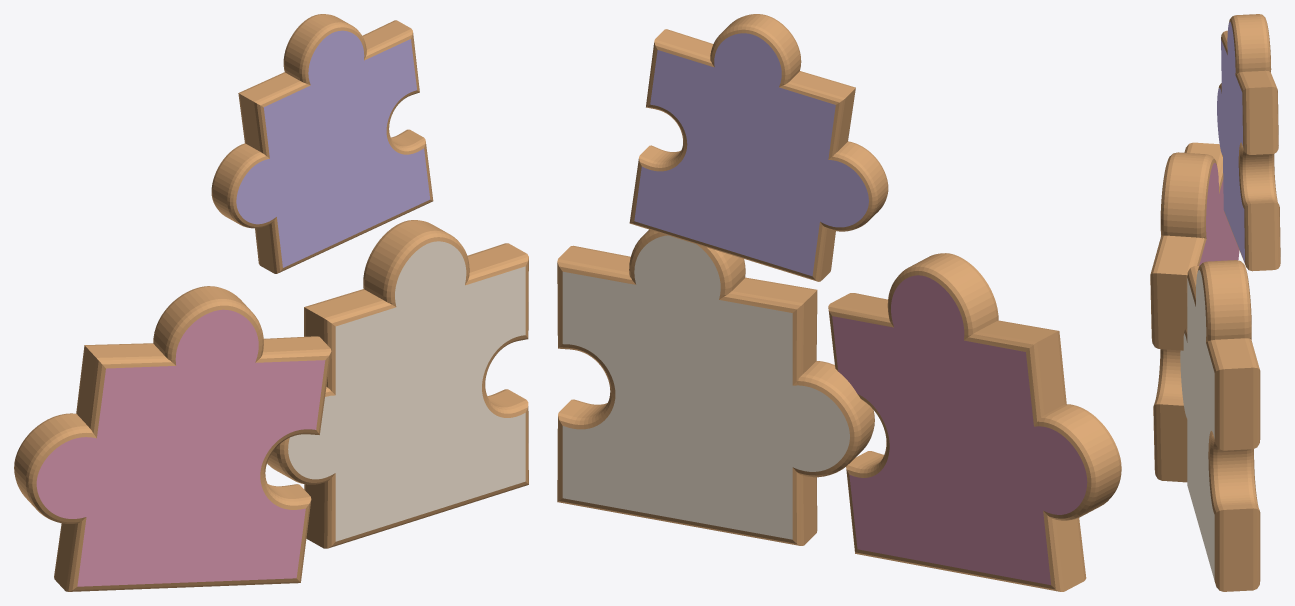
The model's file is memory-puzzle.glb.
The picture shows the model from 3 angles, left to right: view 1: azimuth 30°, elevation 25°; view 2: azimuth 150°, elevation 25°; view 3: azimuth 270°, elevation 25°; orthographic projection. The views are drawn at different scales.
Parts seen in each view (by area): view 1: Piece-0, Piece-1, Piece-2; view 2: Piece-1, Piece-0, Piece-2; view 3: Piece-1, Piece-0, Piece-2.
Part boxes in pixels (x1,y1,x2,y2): Piece-0: (14, 286, 331, 591); Piece-1: (267, 220, 528, 548); Piece-2: (211, 14, 433, 273); Piece-1: (557, 229, 874, 545); Piece-0: (828, 253, 1121, 591); Piece-2: (629, 14, 888, 281); Piece-1: (1180, 260, 1260, 591); Piece-0: (1150, 142, 1239, 482); Piece-2: (1217, 14, 1280, 271).
Bounding box in the file's own units: 2.16 × 2.07 × 0.4941.
